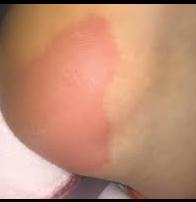Stage1: (16, 14, 136, 176)
